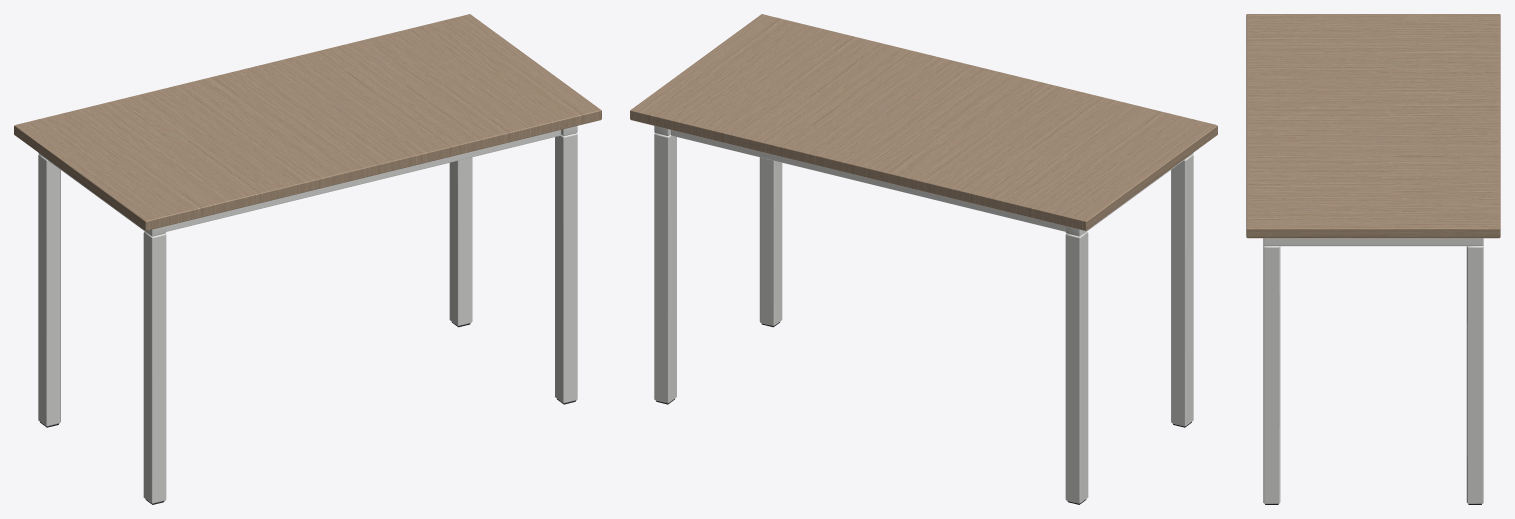
The model's file is desk_120.glb.
3 renders of one model, left to right at view 1: azimuth 30°, elevation 25°; view 2: azimuth 150°, elevation 25°; view 3: azimuth 270°, elevation 25°, orthographic. The views are drawn at different scales.
Parts seen in each view (by area): view 1: desk_hard; view 2: desk_hard; view 3: desk_hard.
Boxes of the visible parts, bbox=[...] form: desk_hard: bbox=[14, 14, 601, 504]; desk_hard: bbox=[630, 14, 1217, 504]; desk_hard: bbox=[1246, 14, 1500, 504].
Size of the model in its own units: 1.2 by 0.74 by 0.6001.
Materials: 3 (1 with a texture image).
